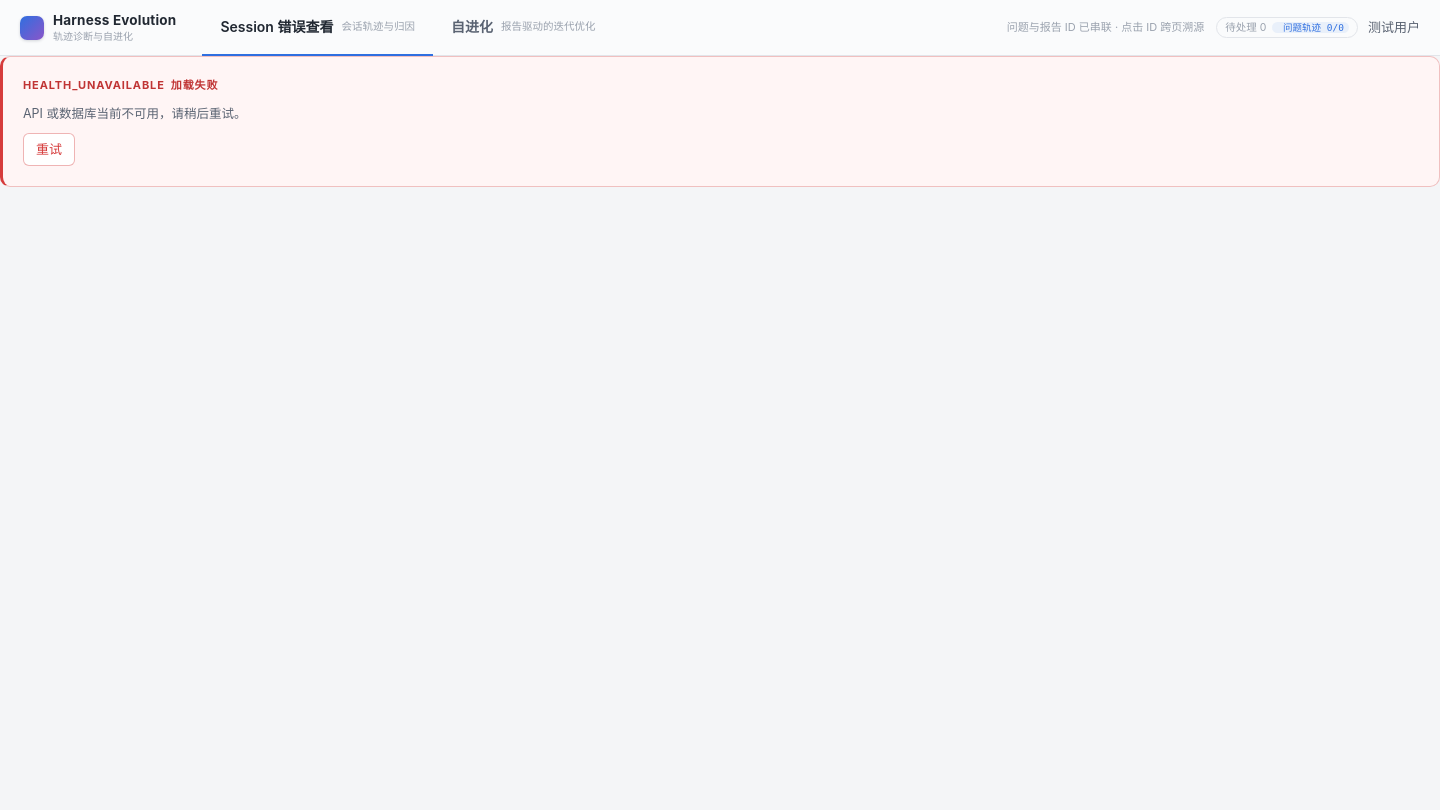
Test case: App shell › keeps the shell mounted when health is unavailable
expect the navigation bar is shown: met, box [202,0,613,55]
expect the message "HEALTH_UNAVAILABLE 加载失败 API 或数据库当前不可用，请稍后重试。 重试" is shown: met, box [0,56,1439,187]
Click the button "重试" at coordinates (49, 149), box [23,133,75,166]
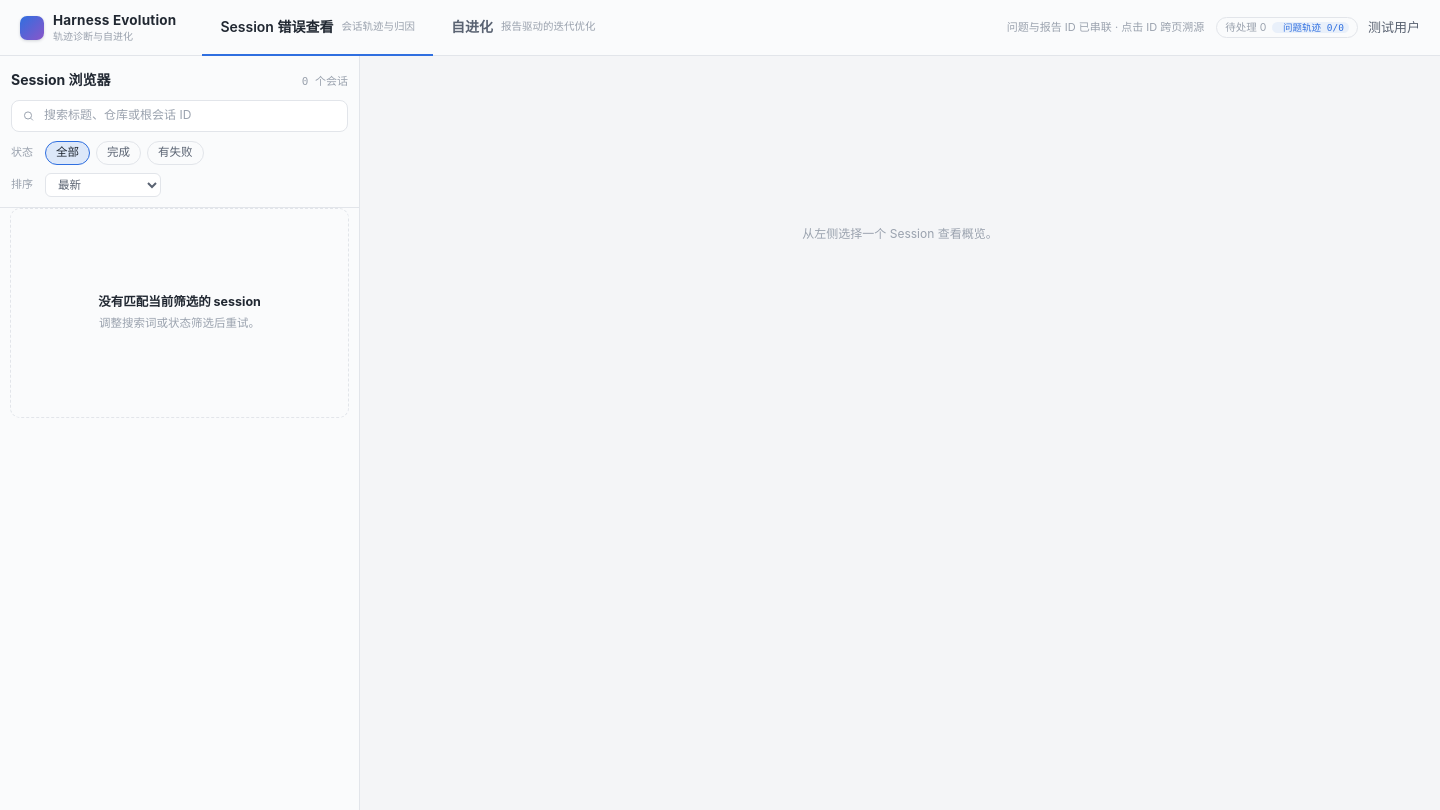
expect the text "Session 浏览器" is shown: met, box [11,69,111,91]
